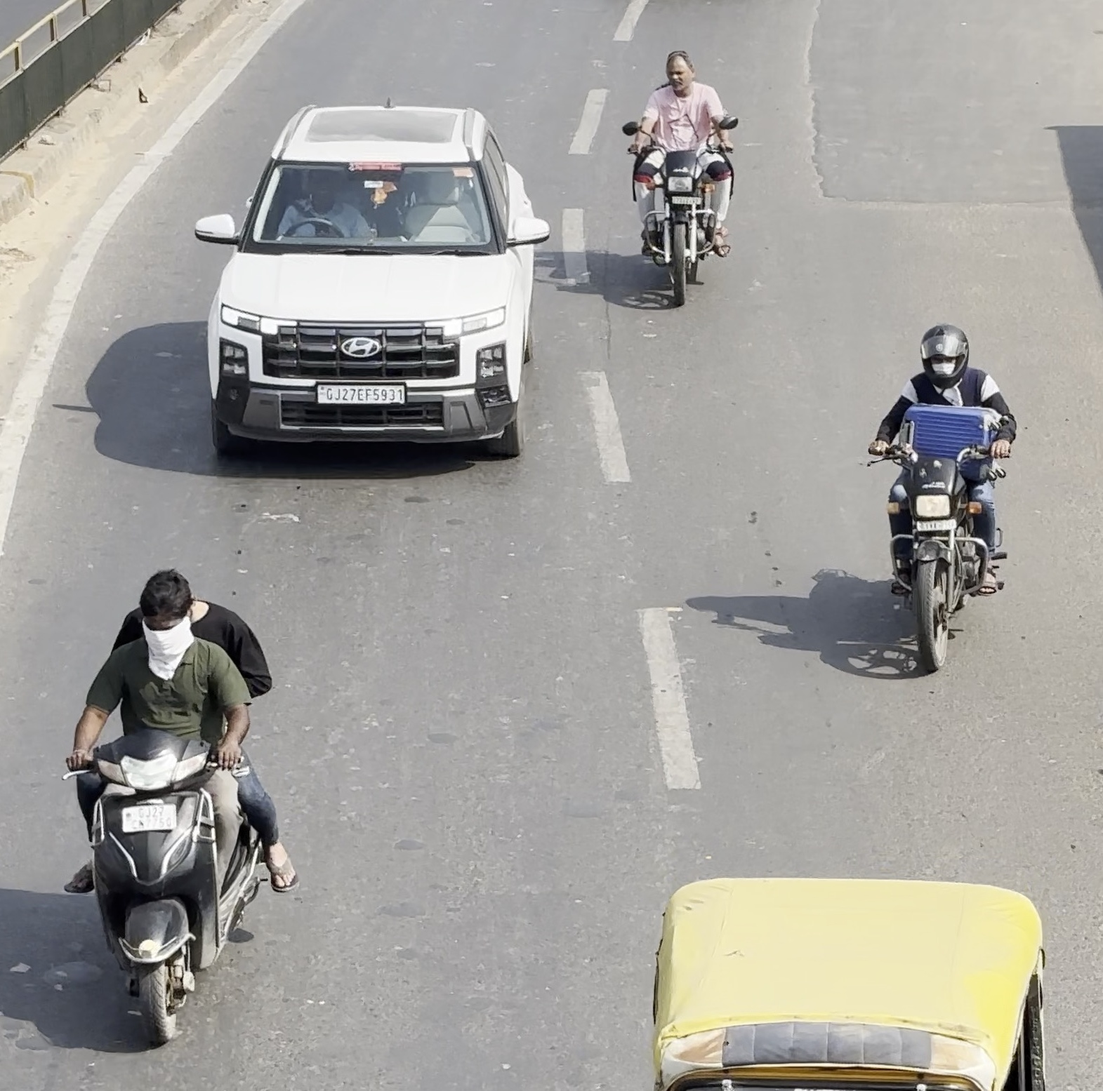BikeWithRider: (48, 559, 307, 1054), (855, 314, 1026, 683), (614, 41, 748, 312)
Helmet: (909, 315, 979, 393)
NoHelmet: (125, 562, 211, 667), (656, 45, 701, 98)
